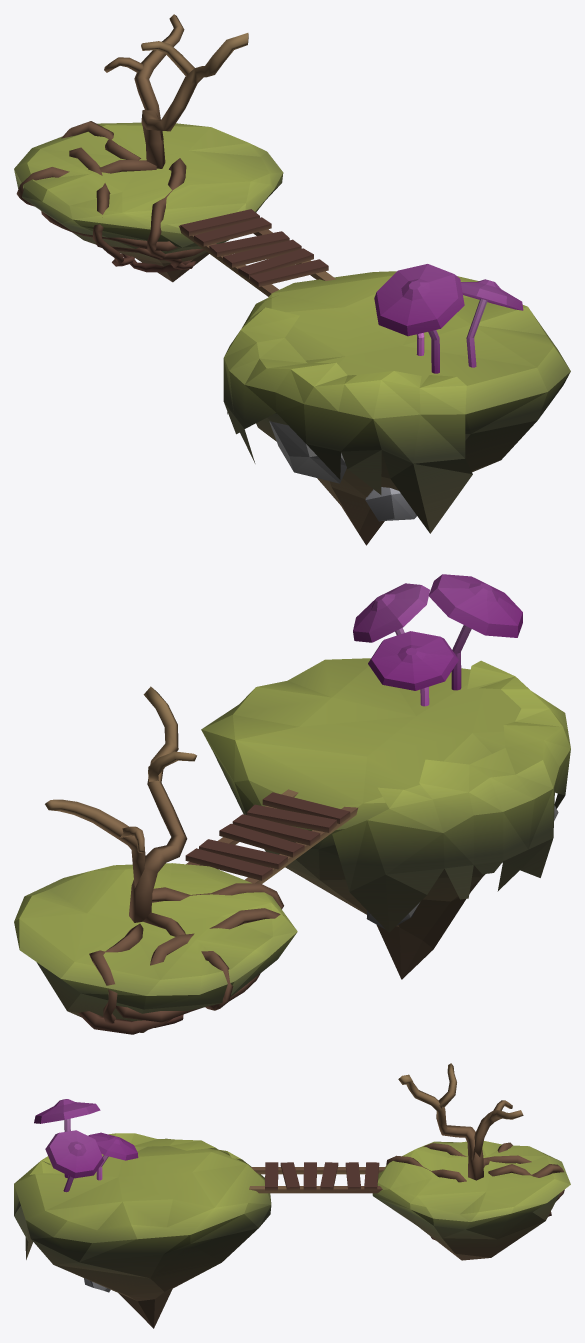
File: DoubleIsland.fbx
3 renders of one model, top to bottom at view 1: azimuth 30°, elevation 25°; view 2: azimuth 150°, elevation 25°; view 3: azimuth 270°, elevation 25°, orthographic. The views are drawn at different scales.
Parts seen in each view (by area): view 1: DoubleIsland; view 2: DoubleIsland; view 3: DoubleIsland.
Boxes of the visible parts, bbox=[...] form: DoubleIsland: bbox=[14, 14, 570, 545]; DoubleIsland: bbox=[14, 574, 570, 1034]; DoubleIsland: bbox=[14, 1063, 570, 1328].
Bounding box in the file's own units: 536 × 673 × 1249.
